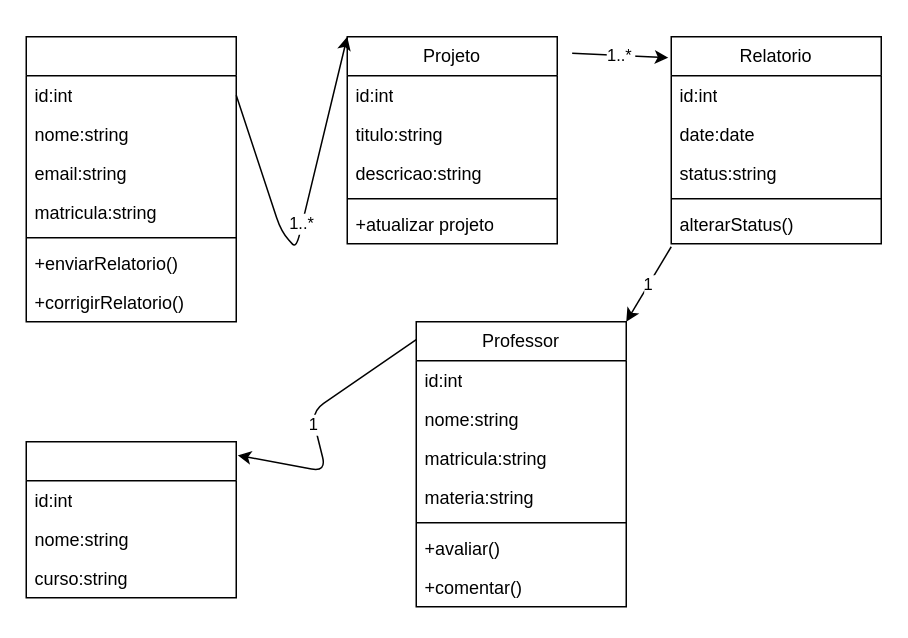
Image size: 908x638. Some labels were removed from this diagram. The shapes that lost their labels are listed below. From the top down, each one's box as (x1, y1, x2, y2) in pixels, then its label:
(25, 35, 236, 322): Estudante
(25, 440, 236, 598): Cordenaçao
